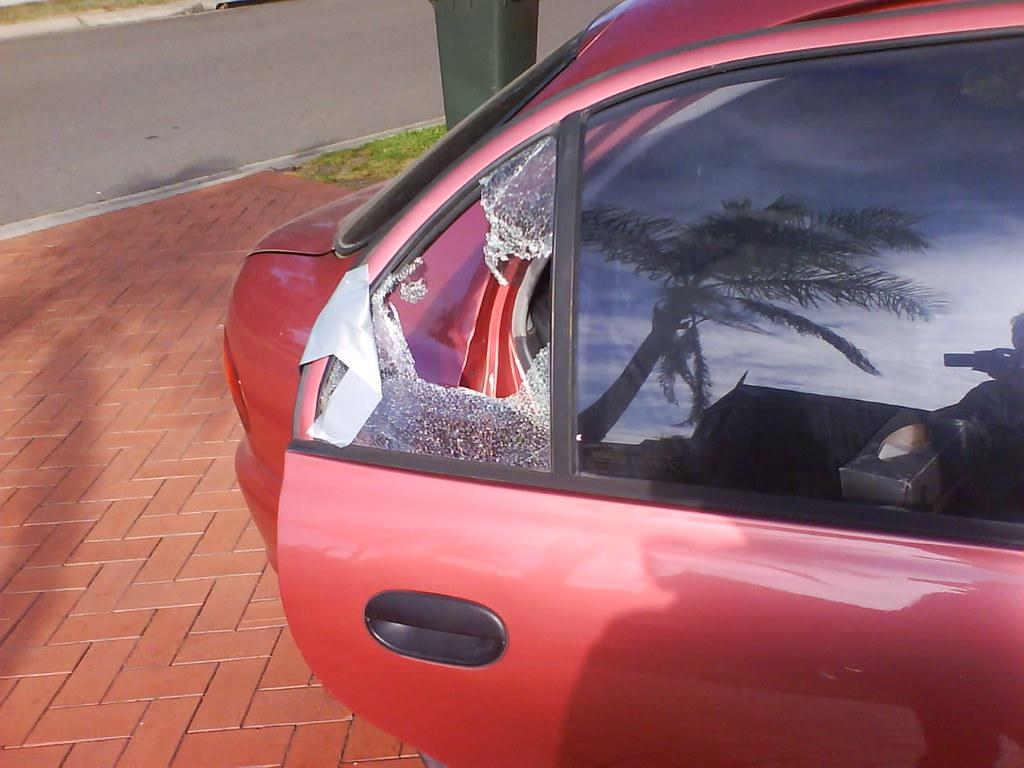doorouter-dent: (271, 156, 628, 650)
